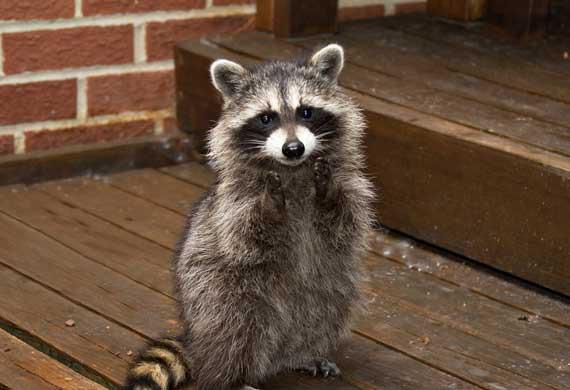raccoon: (109, 38, 392, 390)
